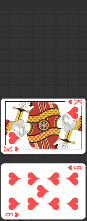KH: (2, 145, 20, 153)
